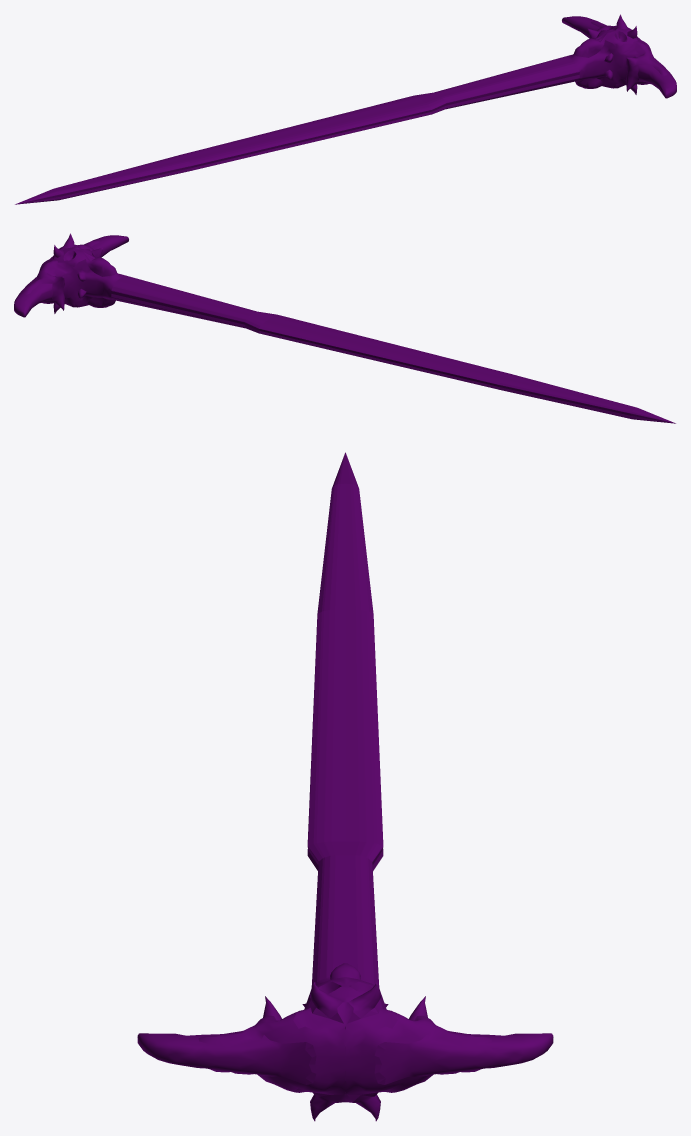
The model's file is blade final model.FBX.
The picture shows the model from 3 angles, top to bottom: view 1: azimuth 30°, elevation 25°; view 2: azimuth 150°, elevation 25°; view 3: azimuth 270°, elevation 25°; orthographic projection. The views are drawn at different scales.
Visible parts, largest first — view 1: Volume007; view 2: Volume007; view 3: Volume007.
Boxes of the visible parts, x1,y1,x2,y2 form: Volume007: (15,14,676,204); Volume007: (14,233,675,423); Volume007: (137,452,553,1121).
Bounding box in the file's own units: 208 × 22.2 × 59.58.
